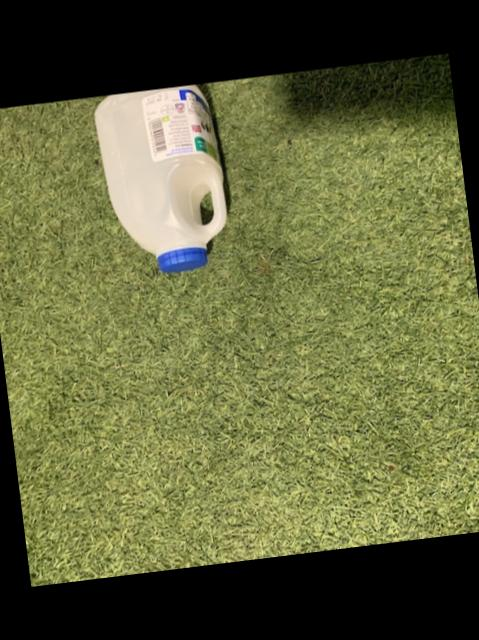plastic: (94, 84, 226, 271)
